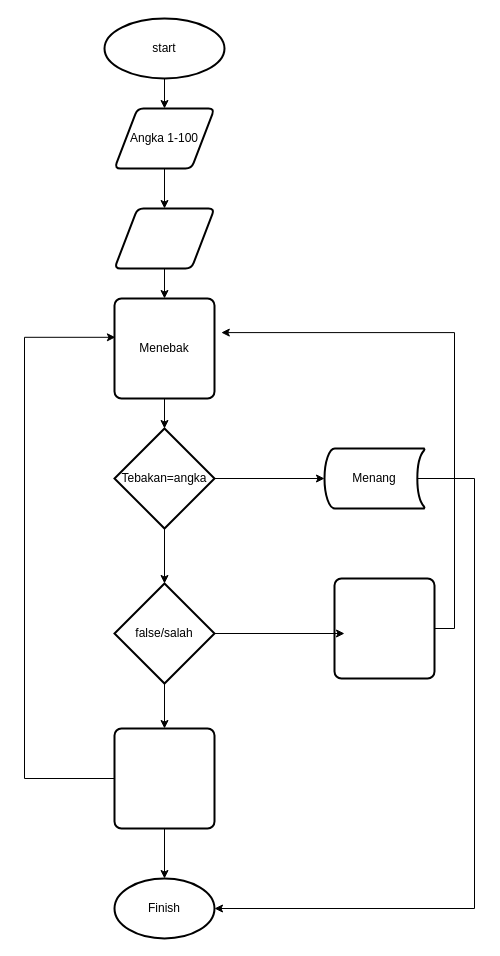
The diagram is 500 pixels wide and 956 high, and some of its shapes have lost their labels. Here are the shapes that lost their labels. From the top down, the centre of each, then its label:
At point (164, 238): "tebakan".
At point (384, 628): "Angka itu lebih besar".
At point (164, 778): "Angka itu lebih kecil".
